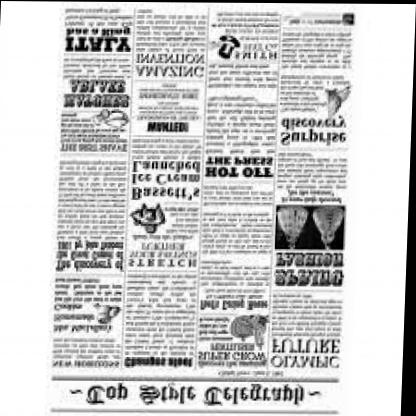Paper: (23, 0, 392, 409)
